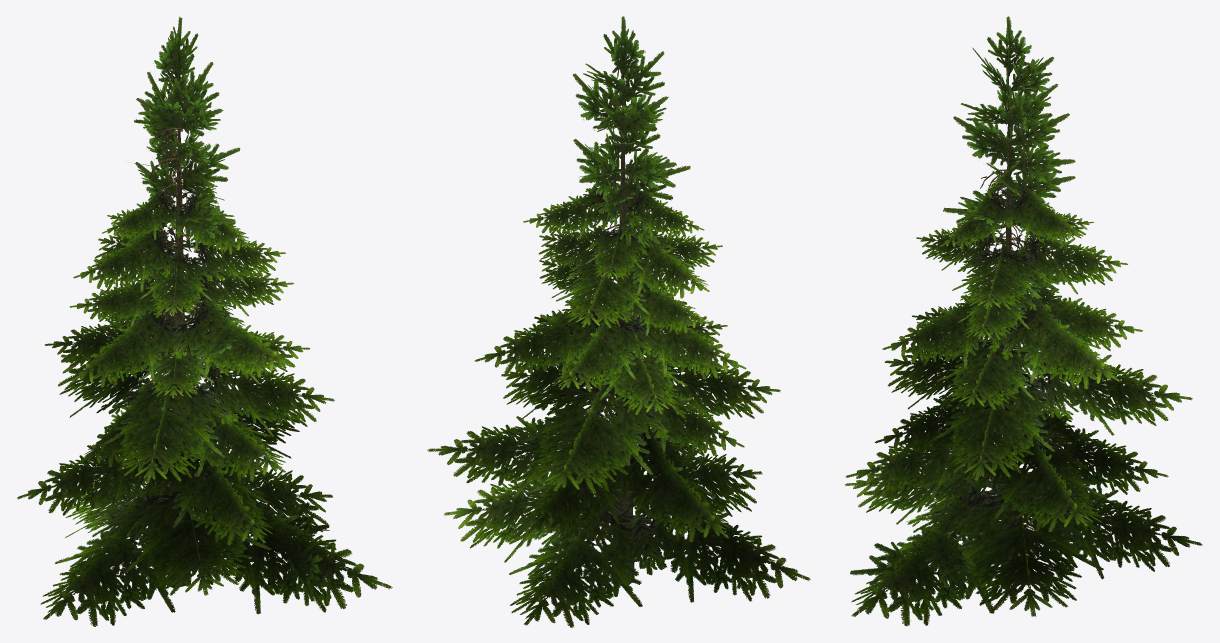
File: spruce.glb
3 views of the same model, side by side, from view 1: azimuth 30°, elevation 25°; view 2: azimuth 150°, elevation 25°; view 3: azimuth 270°, elevation 25° (orthographic).
Visible parts, largest first — view 1: fir-02; view 2: fir-02; view 3: fir-02.
Part boxes in pixels (box(x1,y1,x2,y2)): fir-02: box(17, 16, 392, 626); fir-02: box(427, 16, 810, 627); fir-02: box(845, 16, 1202, 626).
Size of the model in its own units: 5.83 by 9.5 by 5.59.
Materials: 1 (1 with a texture image).
